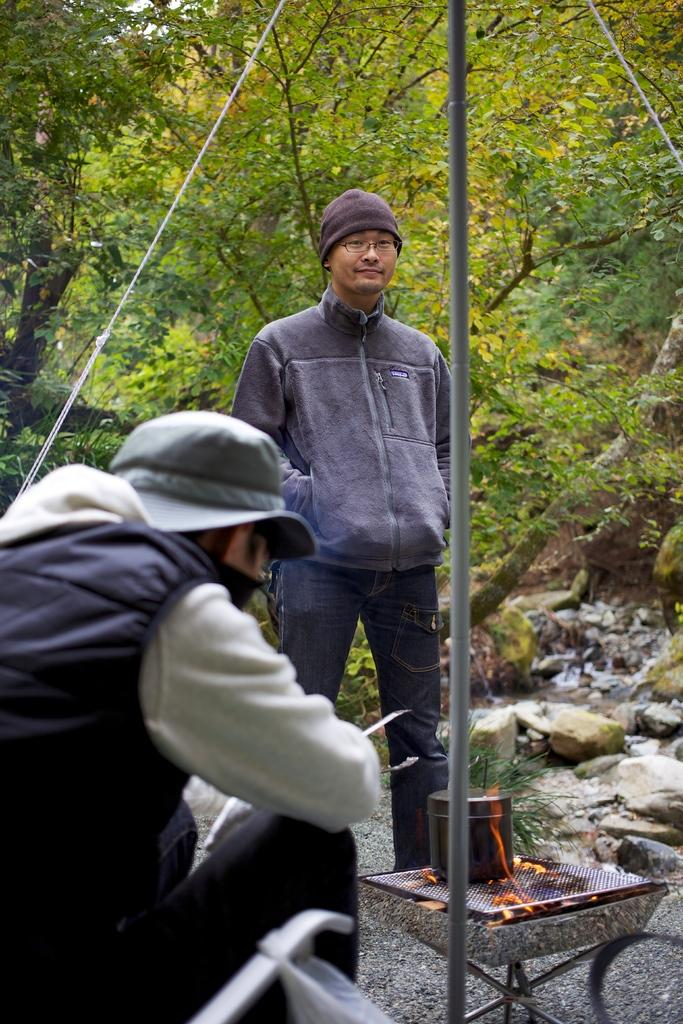Hat: (103, 410, 314, 558)
